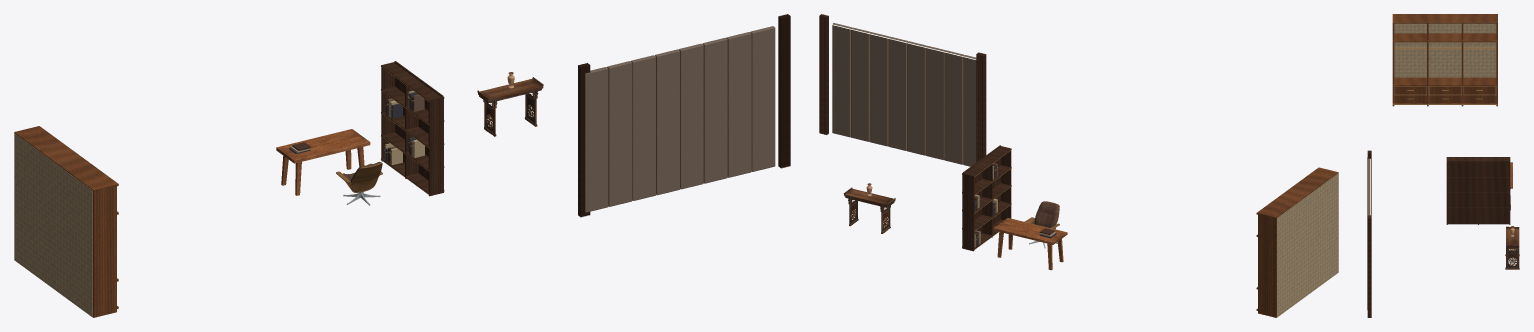
Rendered from second.glb.
3 renders of one model, left to right at view 1: azimuth 30°, elevation 25°; view 2: azimuth 150°, elevation 25°; view 3: azimuth 270°, elevation 25°, orthographic. The views are drawn at different scales.
Parts seen in each view (by area): view 1: SM_SAL_Primary, SF_FittedLibraryAndCabinetry_second, SM_UPF_PrimaryDesk, SM_UPF_PrimaryConsole, SM_UPF_StudyChair; view 2: SM_SAL_Primary, SF_FittedLibraryAndCabinetry_second, SM_UPF_PrimaryDesk, SM_UPF_PrimaryConsole, SM_UPF_StudyChair; view 3: SF_FittedLibraryAndCabinetry_second, SM_SAL_Primary, SM_UPF_PrimaryConsole.
Part boxes in pixels (box(x1,y1,x2,y2)): SM_SAL_Primary: box(578, 14, 790, 217); SF_FittedLibraryAndCabinetry_second: box(14, 61, 444, 317); SM_UPF_PrimaryDesk: box(276, 129, 370, 195); SM_UPF_PrimaryConsole: box(477, 77, 543, 136); SM_UPF_StudyChair: box(336, 161, 382, 205); SM_SAL_Primary: box(819, 14, 986, 166); SF_FittedLibraryAndCabinetry_second: box(962, 145, 1338, 317); SM_UPF_PrimaryDesk: box(993, 218, 1067, 270); SM_UPF_PrimaryConsole: box(843, 187, 895, 233); SM_UPF_StudyChair: box(1024, 201, 1059, 248); SF_FittedLibraryAndCabinetry_second: box(1392, 14, 1510, 224); SM_SAL_Primary: box(1367, 150, 1371, 317); SM_UPF_PrimaryConsole: box(1505, 226, 1519, 269).
Size of the model in its own units: 14.22 by 3.01 by 4.17.
Materials: 13 (8 with a texture image).
